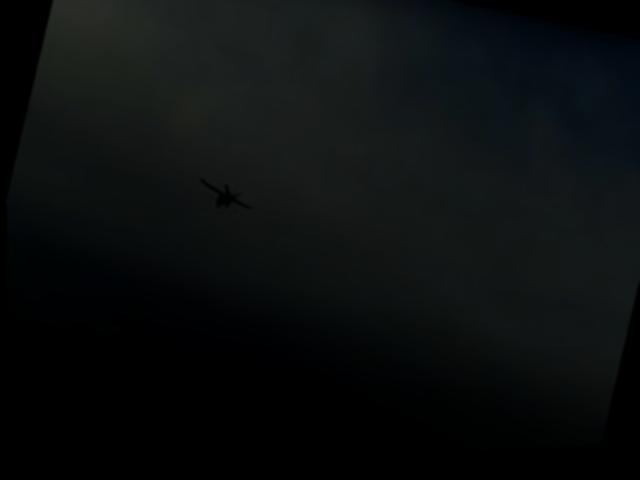uav: (191, 173, 261, 225)
